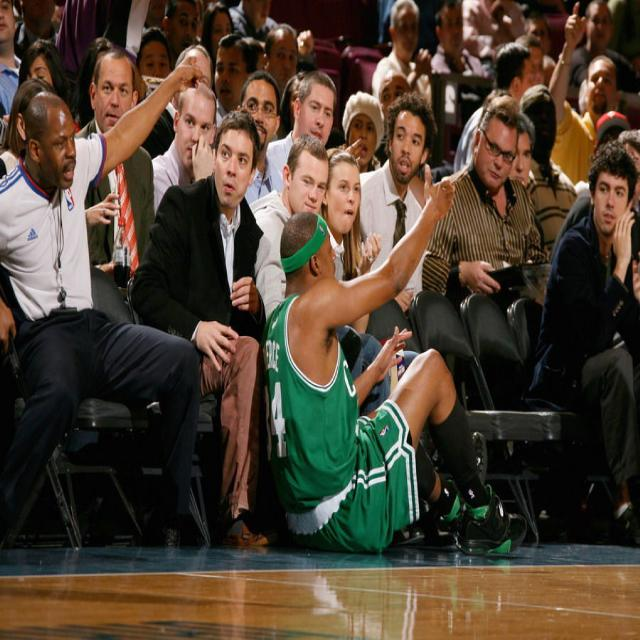10-: (4, 6, 638, 548)
down: (259, 182, 503, 552)
